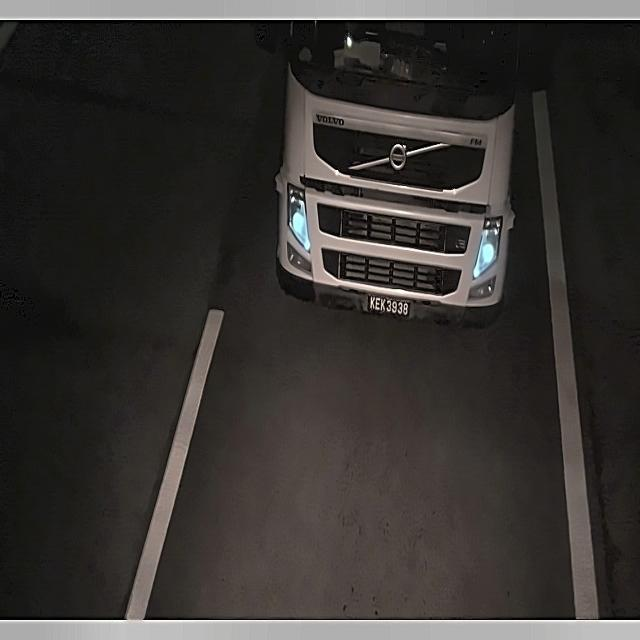car: (363, 291, 414, 326)
